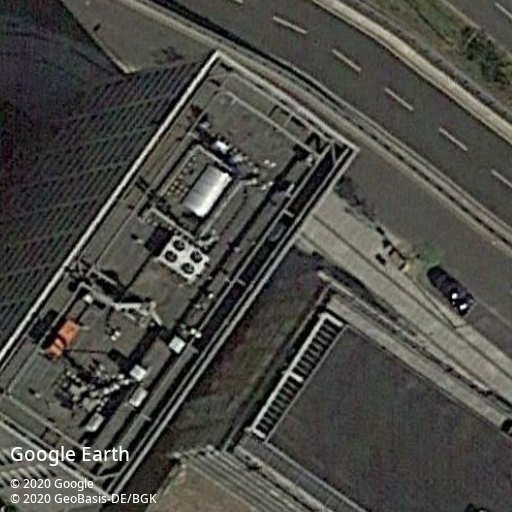Chiller: (157, 234, 210, 282)
